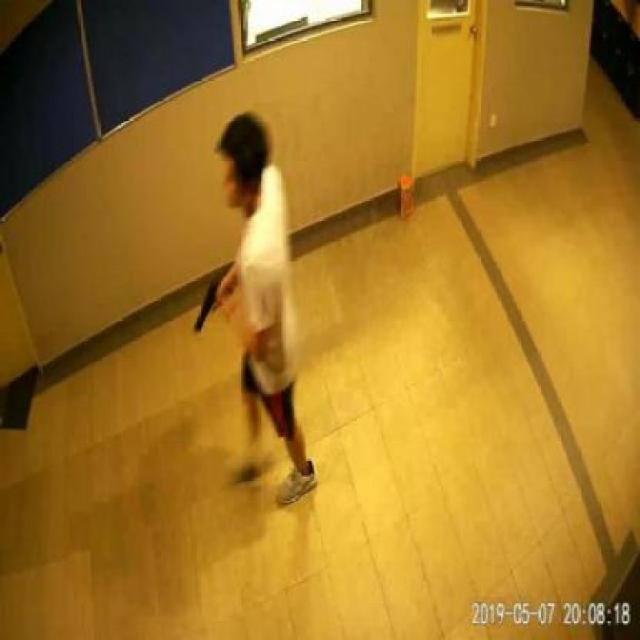gun: (191, 274, 234, 330)
